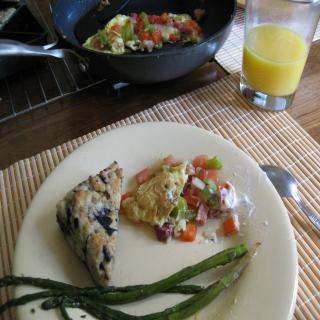Salad: (121, 153, 242, 249), (82, 7, 205, 52)
